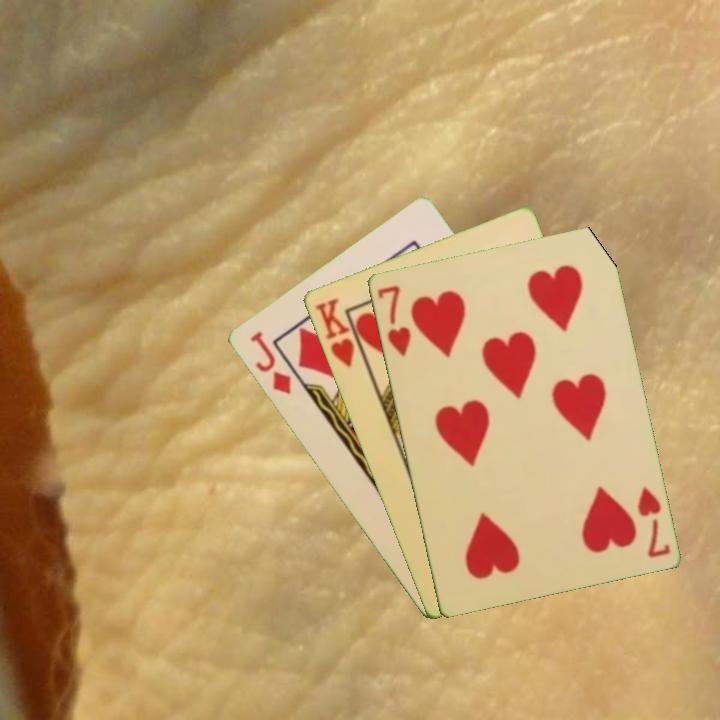7h: (633, 483, 673, 561), (373, 282, 413, 359)
Jd: (246, 327, 294, 398)
Kh: (311, 294, 369, 370)
